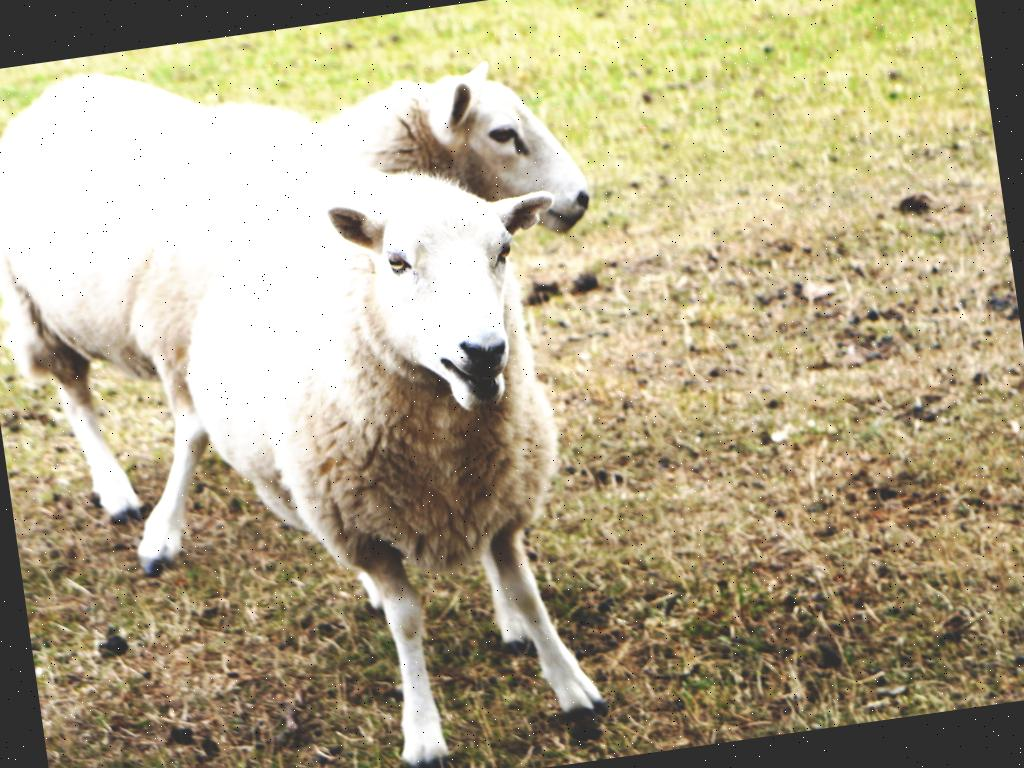Sheep: (0, 0, 636, 506), (148, 129, 643, 768)
